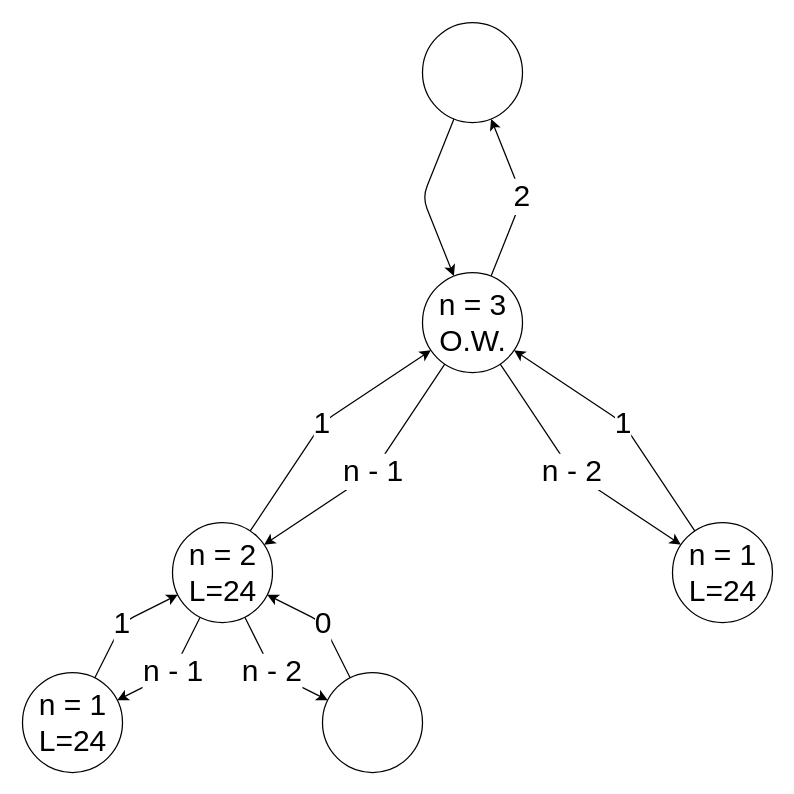
Some shapes in this 794 by 794 pixel diagram are drawn without their labels. The centre of each missing label's shape, as x and y in pixels:
"n = 0 L=24" goes at (371,721).
"O.W." goes at (471,71).
